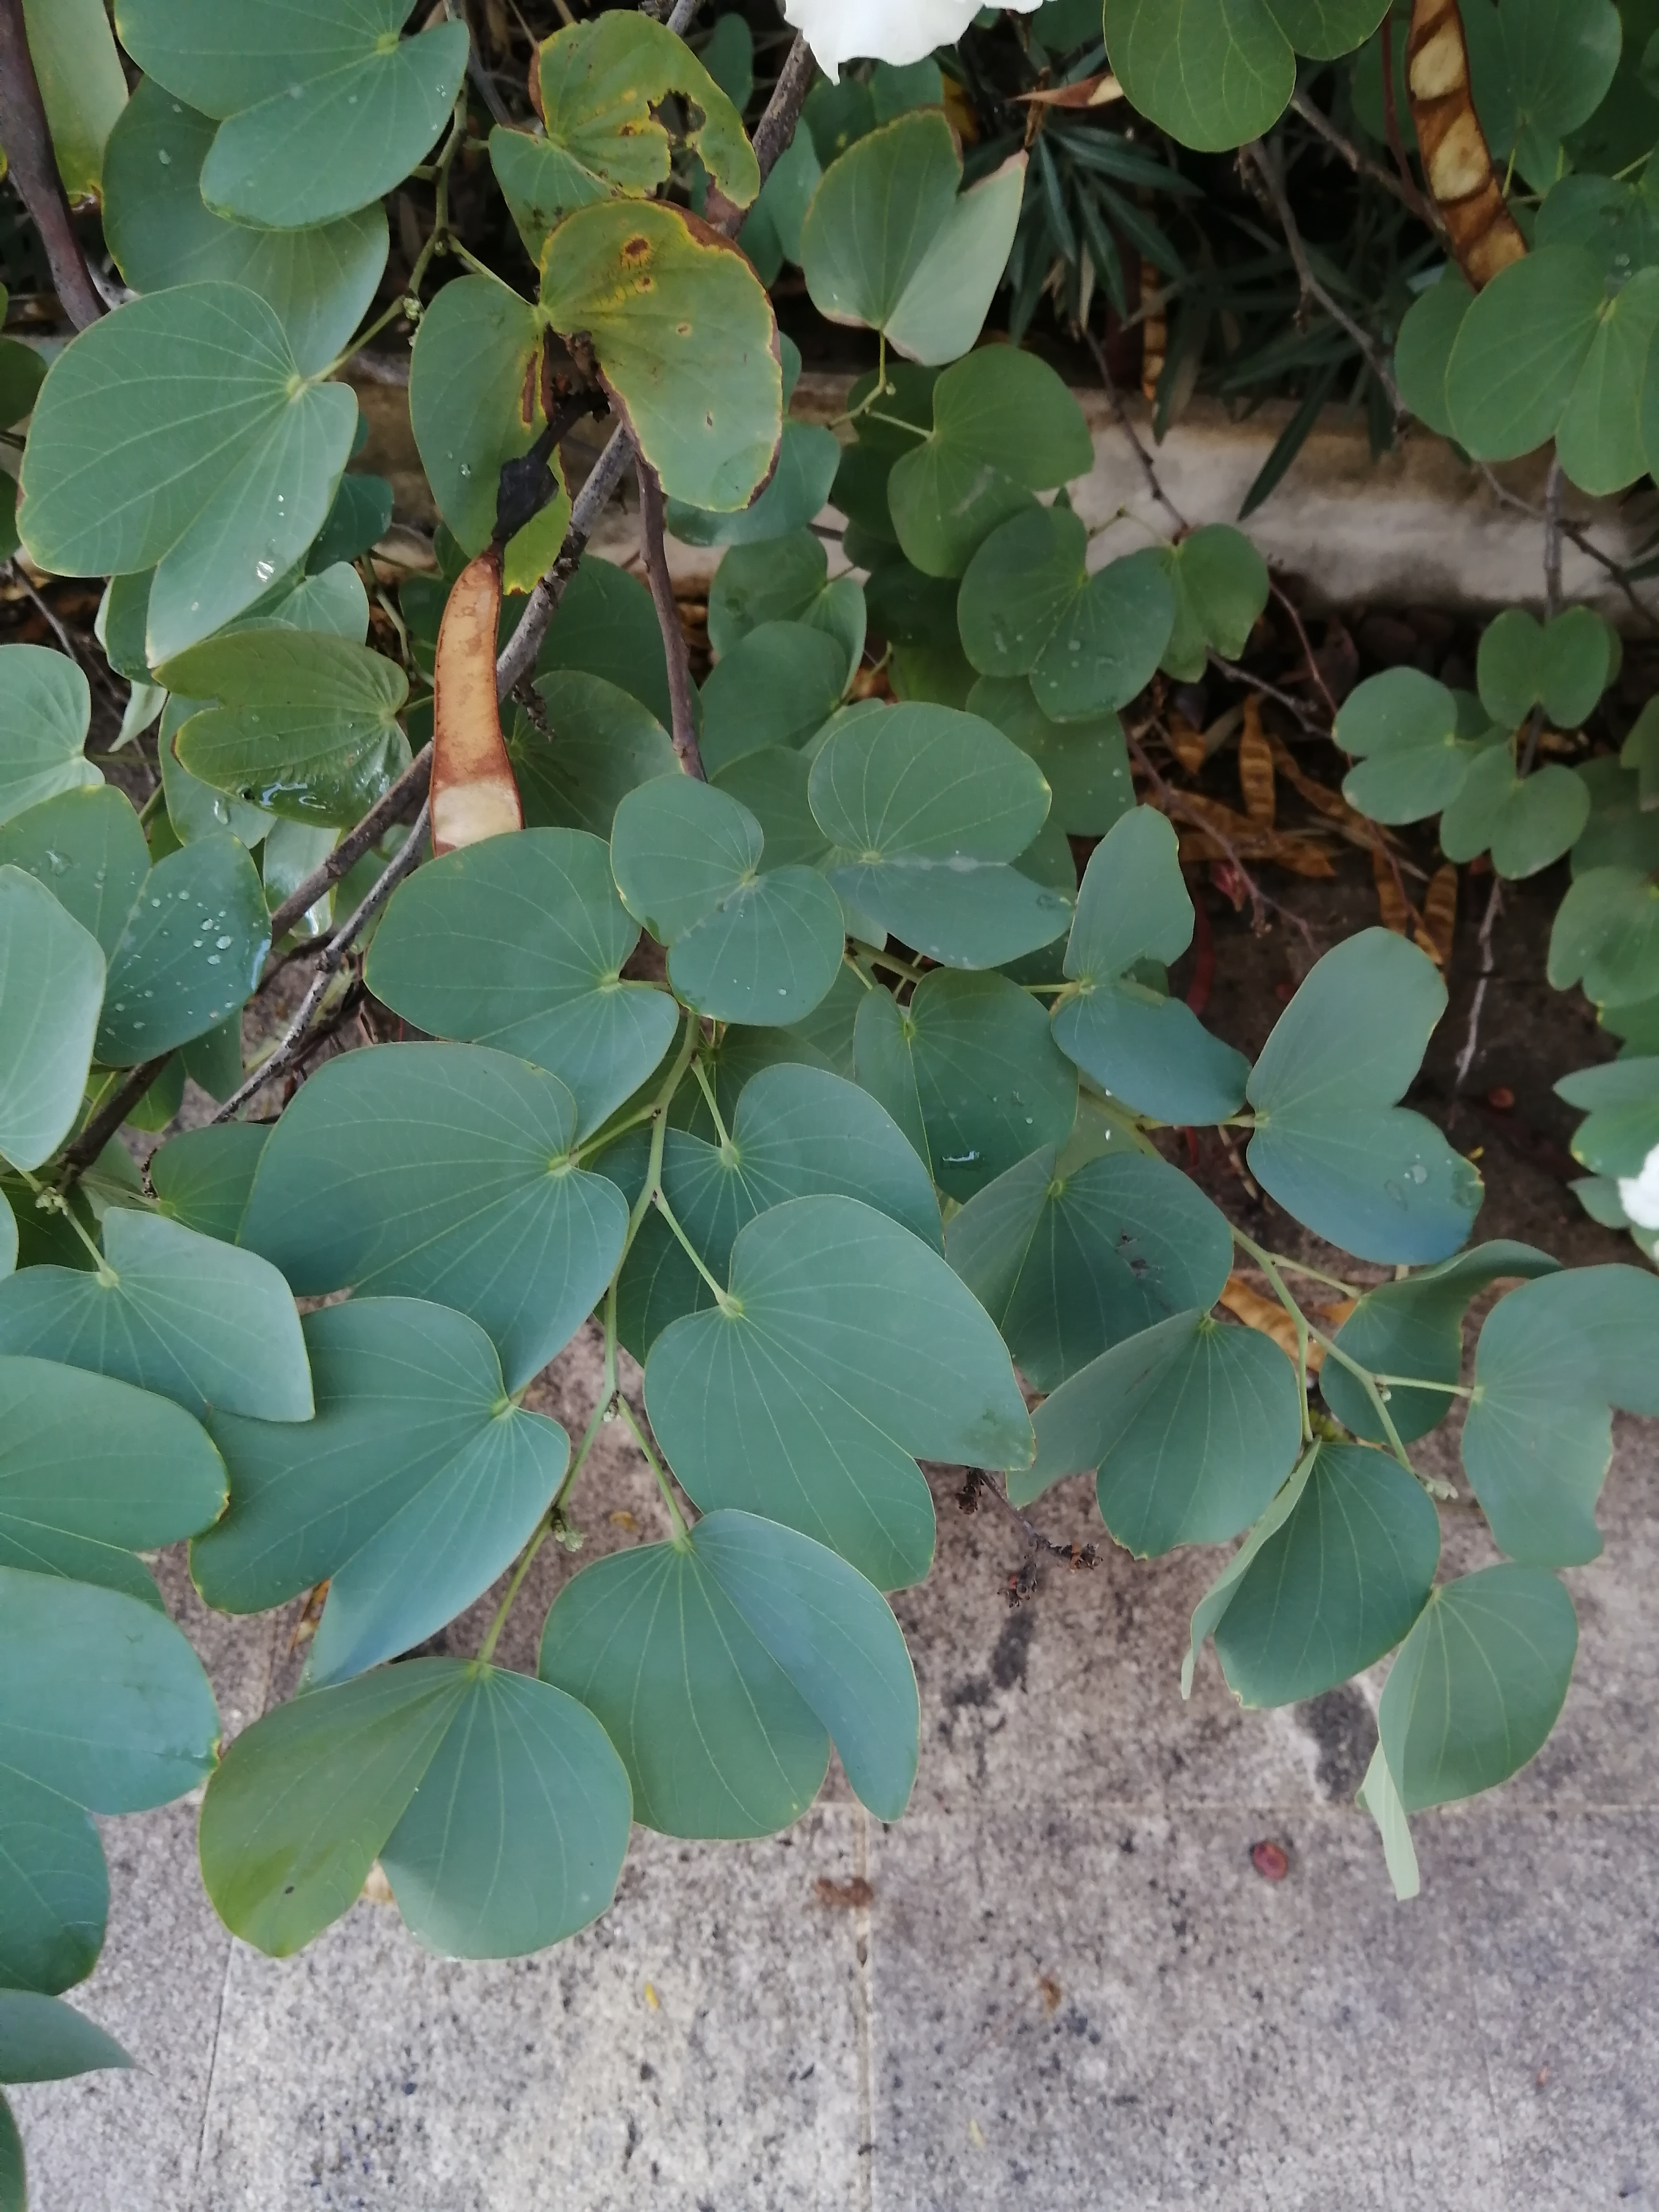healthy: (232, 1609, 629, 1994), (509, 1545, 985, 1860), (192, 1324, 575, 1665), (659, 1245, 1032, 1557), (21, 326, 394, 629), (291, 1022, 617, 1366), (357, 834, 678, 1132), (16, 1136, 282, 1482), (1263, 913, 1500, 1285), (1060, 792, 1300, 1130), (1063, 1254, 1304, 1568), (1422, 1263, 1659, 1561), (805, 718, 1077, 975), (612, 772, 870, 1040), (885, 334, 1147, 590), (965, 495, 1208, 740), (1469, 230, 1659, 495), (1432, 733, 1600, 880), (1321, 676, 1459, 826), (1483, 601, 1619, 747)
nothealthy: (369, 197, 782, 625), (486, 16, 803, 260), (112, 608, 420, 841)
